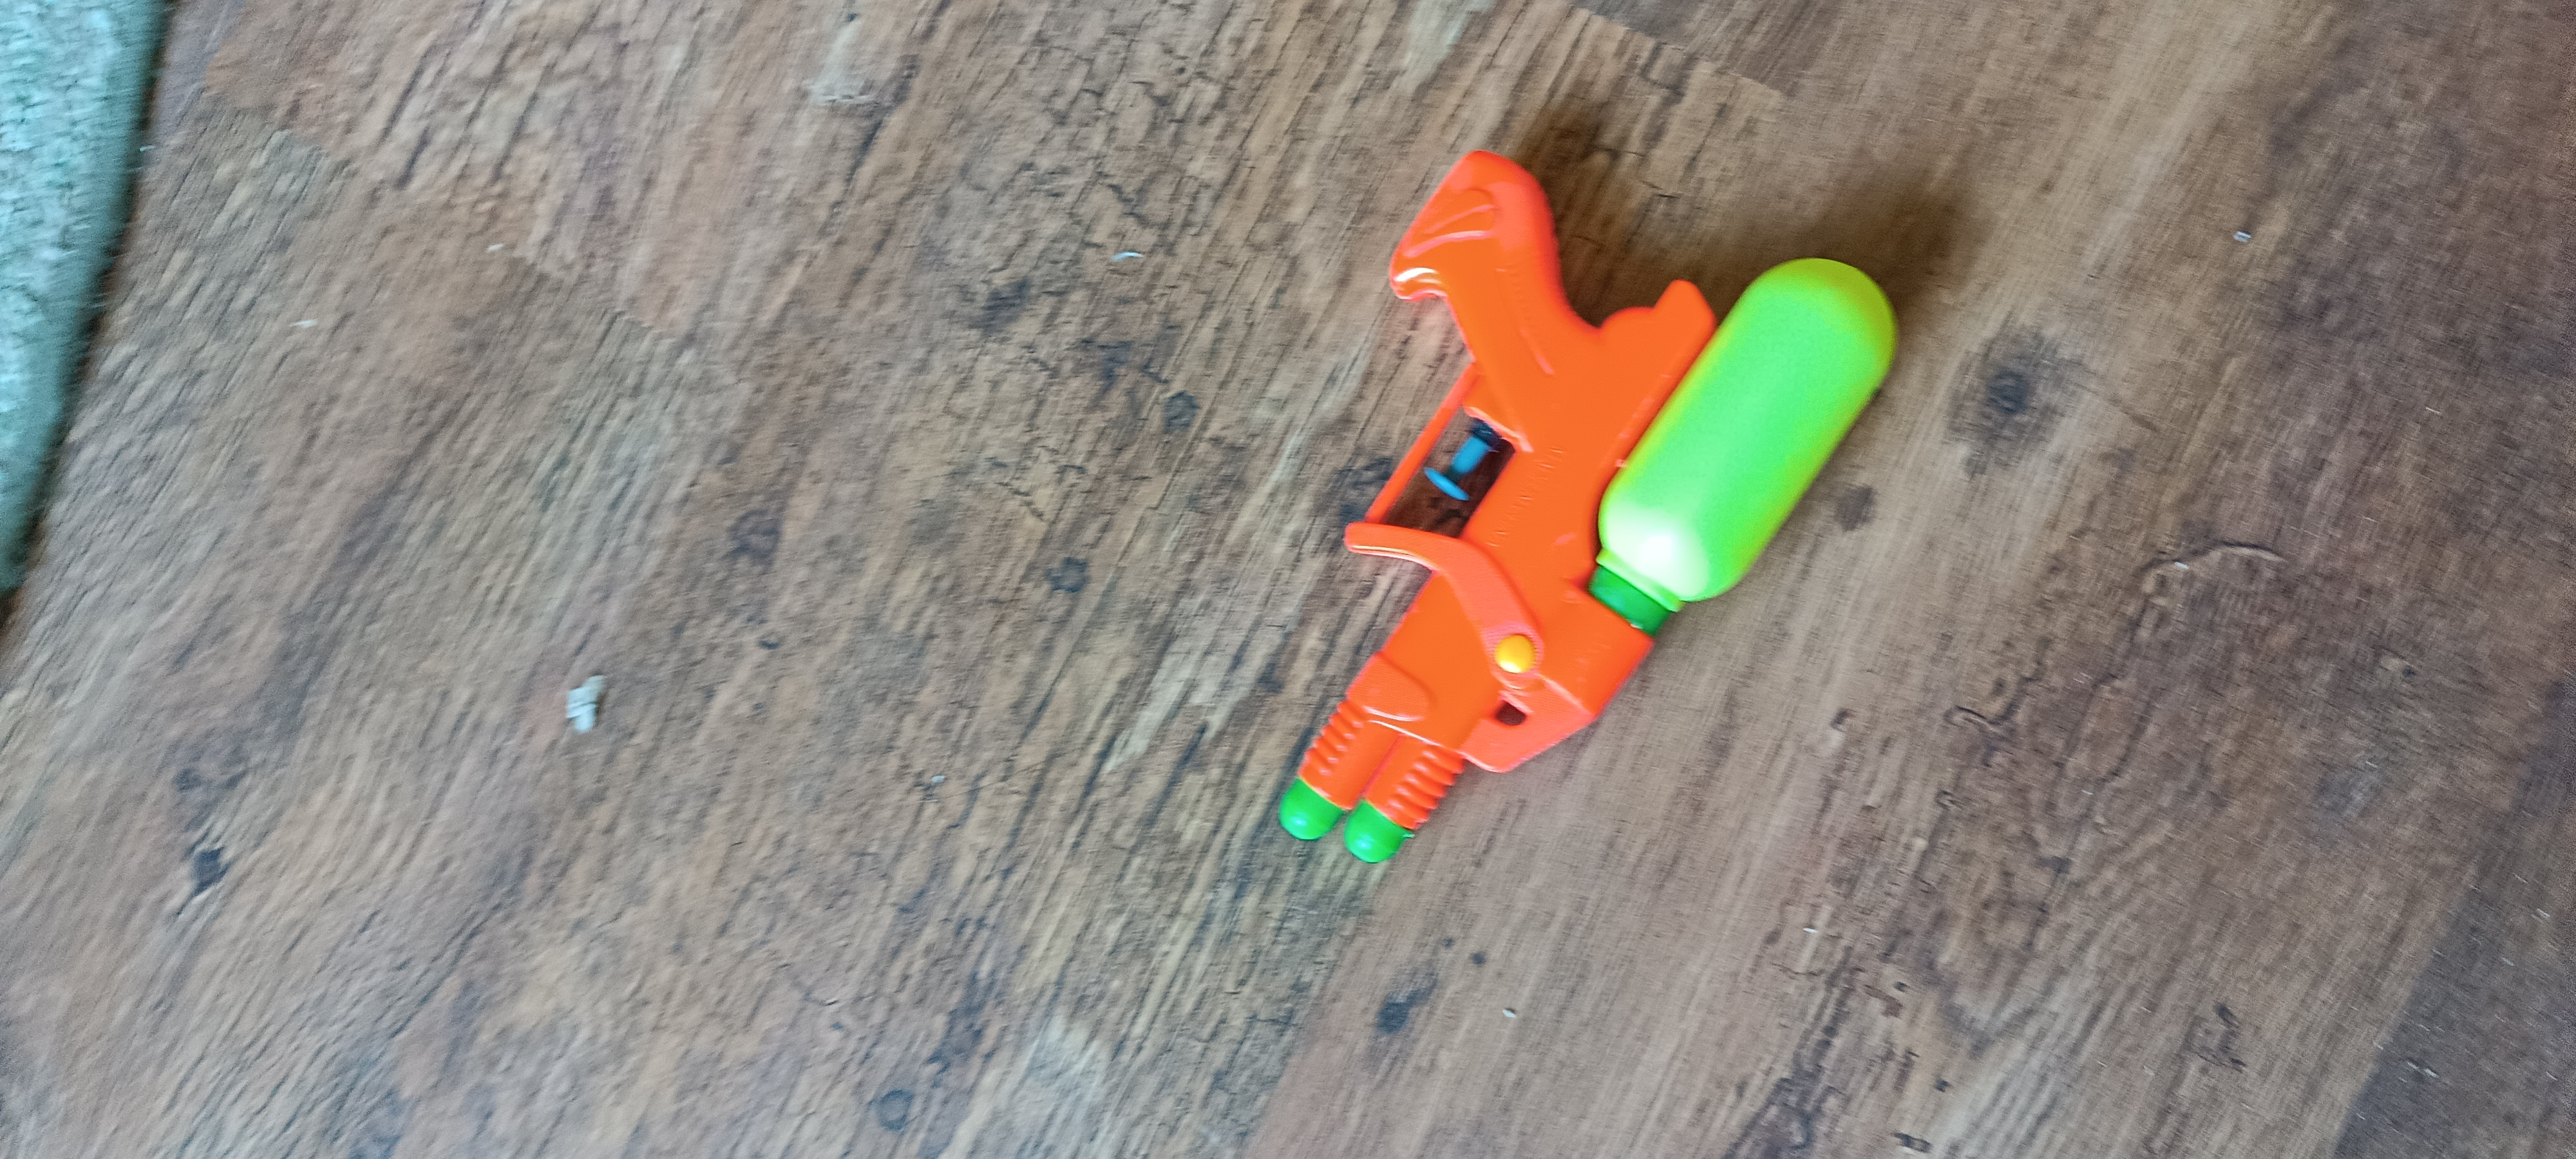Water Gun: (1278, 151, 1904, 865)
